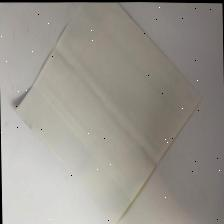paper: (8, 0, 200, 220)
